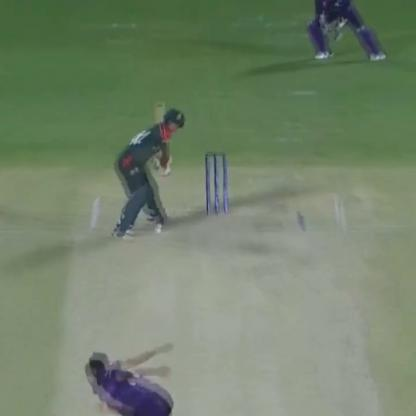ball: (146, 220, 165, 236)
bat: (148, 102, 180, 153)
pitch: (31, 189, 384, 415)
